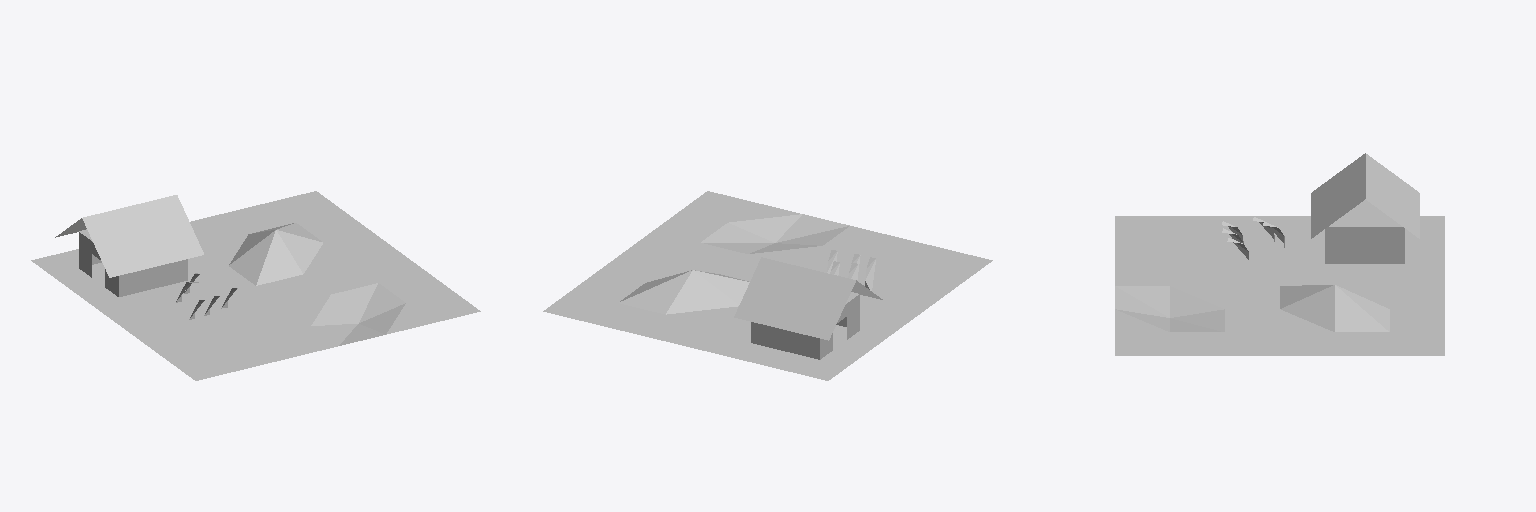
The model's file is housefarm.obj.
3 views of the same model, side by side, from view 1: azimuth 30°, elevation 25°; view 2: azimuth 150°, elevation 25°; view 3: azimuth 270°, elevation 25° (orthographic).
Parts seen in each view (by area): view 1: Plane, Plane.006, Cube_Cube.001; view 2: Plane, Plane.006, Cube_Cube.001; view 3: Plane, Plane.006, Cube_Cube.001.
Part boxes in pixels (bbox=[...]): Plane: bbox=[31, 191, 480, 380]; Plane.006: bbox=[55, 195, 203, 277]; Cube_Cube.001: bbox=[79, 229, 187, 296]; Plane: bbox=[543, 191, 992, 380]; Plane.006: bbox=[734, 257, 882, 340]; Cube_Cube.001: bbox=[751, 292, 859, 359]; Plane: bbox=[1115, 216, 1444, 355]; Plane.006: bbox=[1311, 153, 1419, 238]; Cube_Cube.001: bbox=[1325, 199, 1404, 263].
Bounding box in the file's own units: 6 × 1.56 × 6.